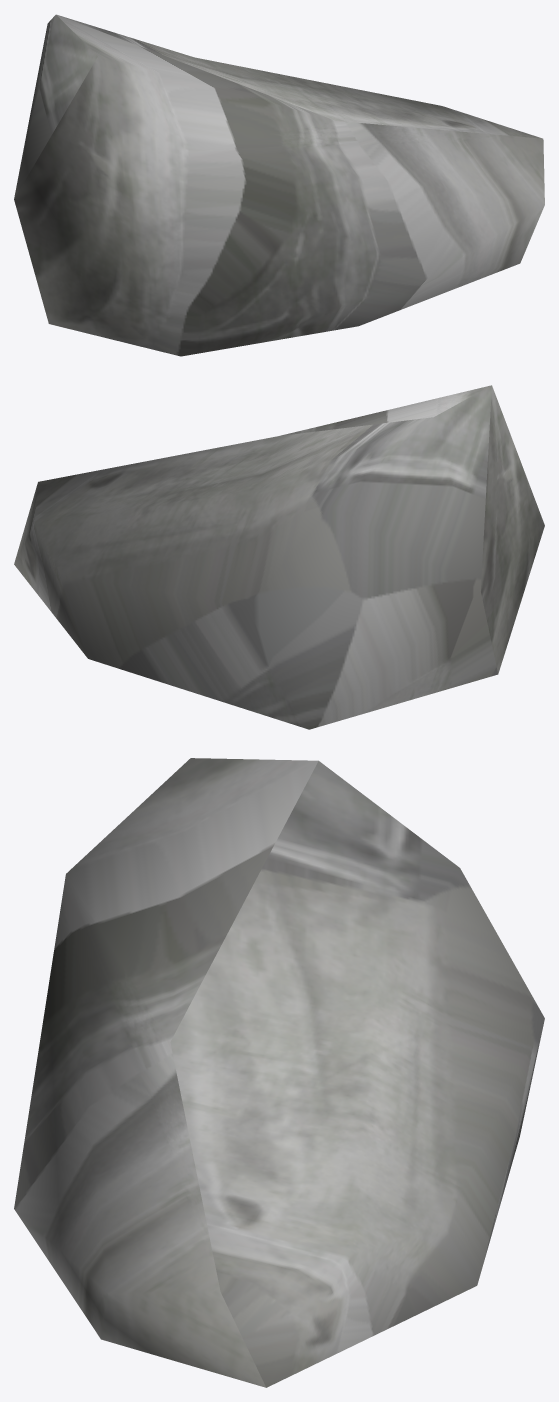
Rendered from 5_R_Grande_LOD_1.fbx.
3 views of the same model, one above another, from view 1: azimuth 30°, elevation 25°; view 2: azimuth 150°, elevation 25°; view 3: azimuth 270°, elevation 25° (orthographic). The views are drawn at different scales.
Parts seen in each view (by area): view 1: 5_R_Grande_LOD_1; view 2: 5_R_Grande_LOD_1; view 3: 5_R_Grande_LOD_1.
Boxes of the visible parts, left/top/right/bottom form: 5_R_Grande_LOD_1: left=14, top=14, right=544, bottom=356; 5_R_Grande_LOD_1: left=14, top=385, right=544, bottom=729; 5_R_Grande_LOD_1: left=14, top=758, right=544, bottom=1387.
Bounding box in the file's own units: 2384 × 1270 × 1749.
